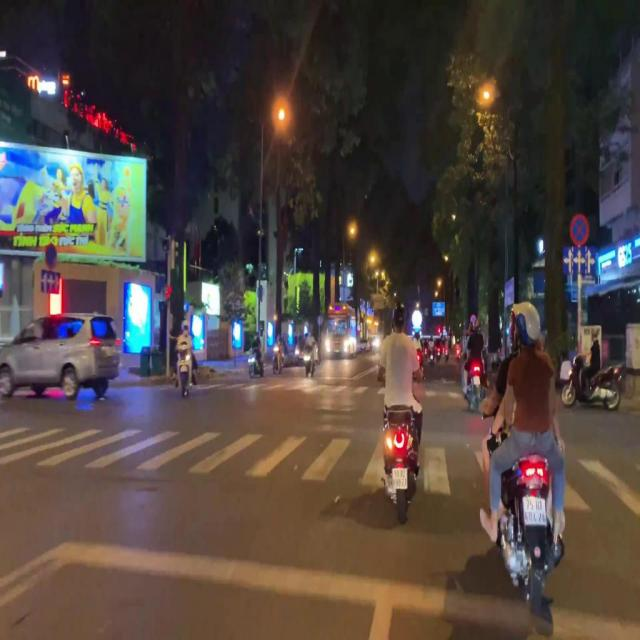cam_dung_xe_va_do_xe: (570, 212, 589, 248)
huong_di_tren_moi_lan_duong_theo_vach_ke_duong: (562, 246, 596, 274)
